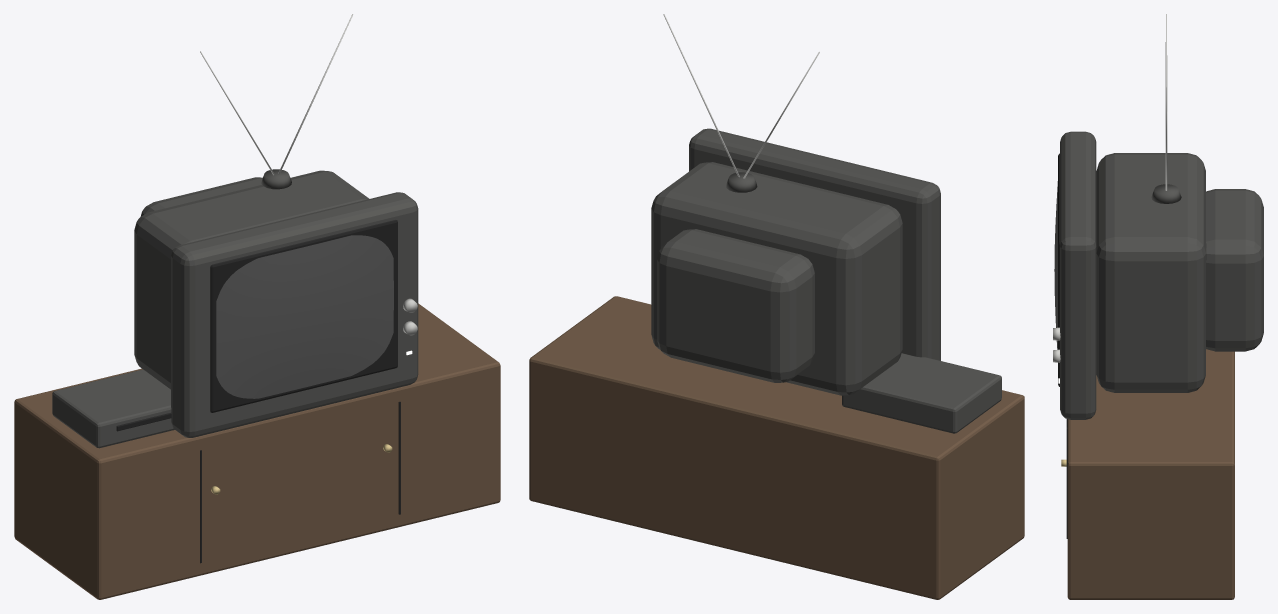
3 views of the same model, side by side, from view 1: azimuth 30°, elevation 25°; view 2: azimuth 150°, elevation 25°; view 3: azimuth 270°, elevation 25° (orthographic). The views are drawn at different scales.
Parts seen in each view (by area): view 1: cab, screen, bezel, shell, vcr, inset, tube; view 2: cab, shell, tube, bezel, vcr; view 3: cab, shell, bezel, tube, ant_base, screen, inset.
Boxes of the visible parts, bbox=[...] form: cab: bbox=[14, 303, 500, 599]; screen: bbox=[216, 235, 393, 398]; bezel: bbox=[171, 192, 418, 437]; shell: bbox=[134, 170, 369, 389]; vcr: bbox=[52, 369, 174, 448]; inset: bbox=[210, 220, 397, 412]; tube: bbox=[140, 177, 262, 216]; cab: bbox=[529, 296, 1024, 599]; shell: bbox=[651, 162, 902, 395]; tube: bbox=[657, 229, 814, 382]; bezel: bbox=[689, 128, 940, 360]; vcr: bbox=[842, 353, 1001, 433]; cab: bbox=[1067, 349, 1234, 599]; shell: bbox=[1096, 153, 1205, 392]; bezel: bbox=[1060, 131, 1096, 419]; tube: bbox=[1206, 189, 1263, 351]; ant_base: bbox=[1151, 184, 1181, 203]; screen: bbox=[1054, 181, 1057, 349]; inset: bbox=[1058, 153, 1059, 386].
Size of the model in its own units: 1.5 by 1.69 by 0.6925.
